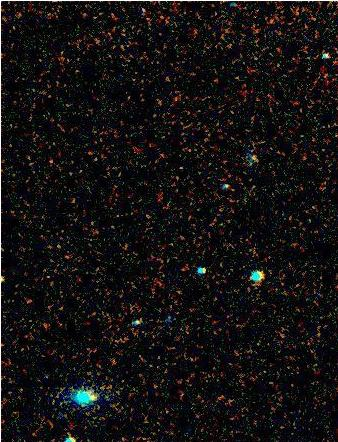star: (75, 380, 105, 410)
